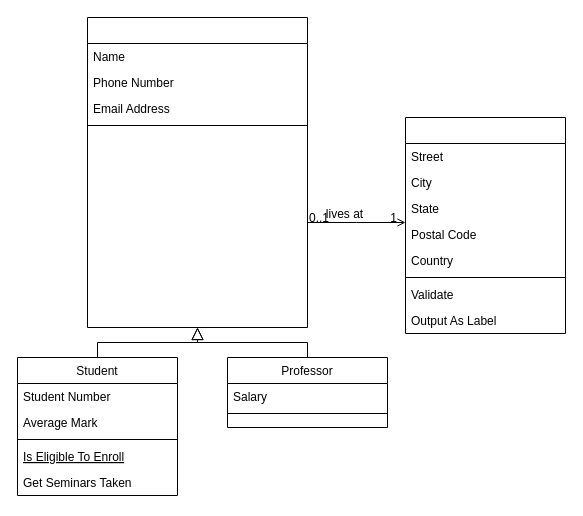
Some shapes in this 583 by 516 pixel diagram are drawn without their labels. Each missing label, with the box of its shape:
Address: (404, 116, 566, 334)
User: (86, 16, 308, 328)
